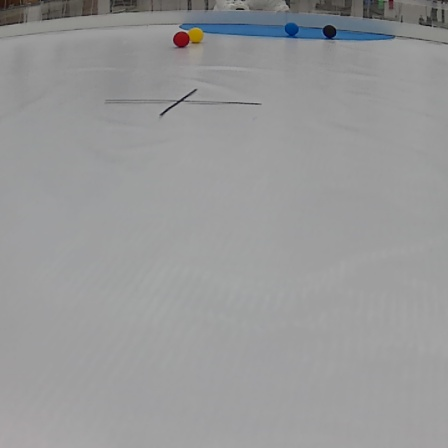black: (320, 24, 340, 37)
blue: (284, 23, 300, 35)
blue_base: (178, 22, 395, 44)
red: (172, 31, 188, 46)
yellow: (187, 27, 204, 40)
